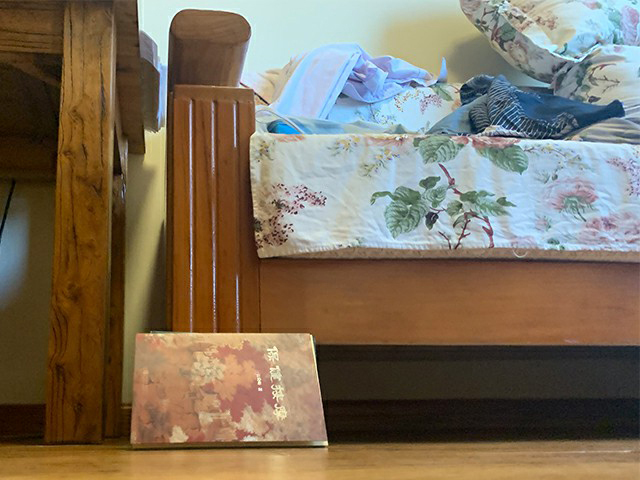book: (128, 331, 328, 448)
sofa: (163, 1, 640, 345)
